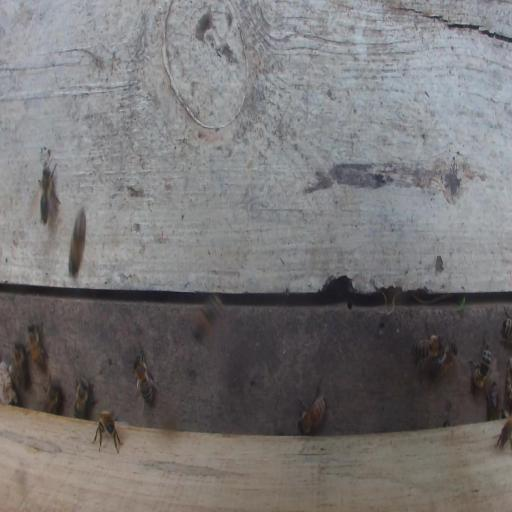nonpollenbee: (466, 328, 492, 392), (91, 409, 125, 457), (428, 337, 459, 383), (67, 207, 86, 278), (132, 354, 156, 410), (296, 394, 326, 438), (27, 319, 47, 382), (72, 377, 98, 421), (41, 370, 65, 414), (410, 329, 442, 362), (37, 164, 54, 226), (12, 341, 28, 392), (483, 381, 503, 421), (498, 303, 511, 347)
